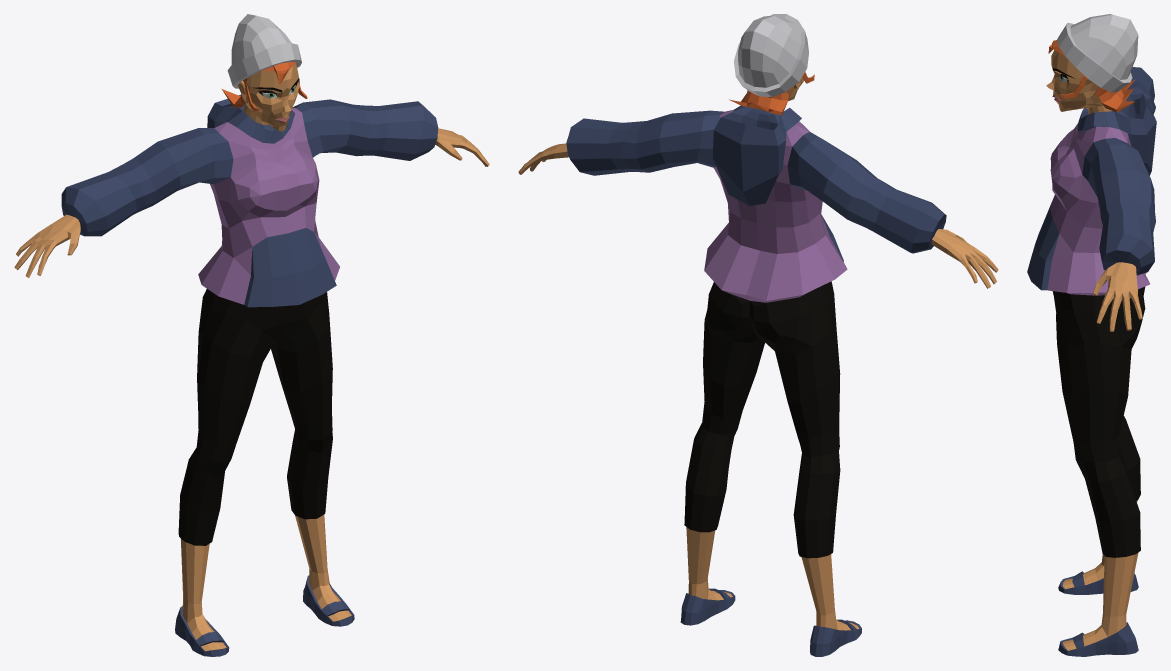
The model's file is City__F_2.fbx.
3 views of the same model, side by side, from view 1: azimuth 30°, elevation 25°; view 2: azimuth 150°, elevation 25°; view 3: azimuth 270°, elevation 25° (orthographic).
Parts seen in each view (by area): view 1: City _F_2; view 2: City _F_2; view 3: City _F_2.
Part boxes in pixels (x1,y1,x2,y2): City _F_2: [14, 14, 489, 656]; City _F_2: [518, 14, 998, 656]; City _F_2: [1027, 14, 1156, 656].
Size of the model in its own units: 149 by 184 by 35.83.
Materials: 1 (1 with a texture image).
